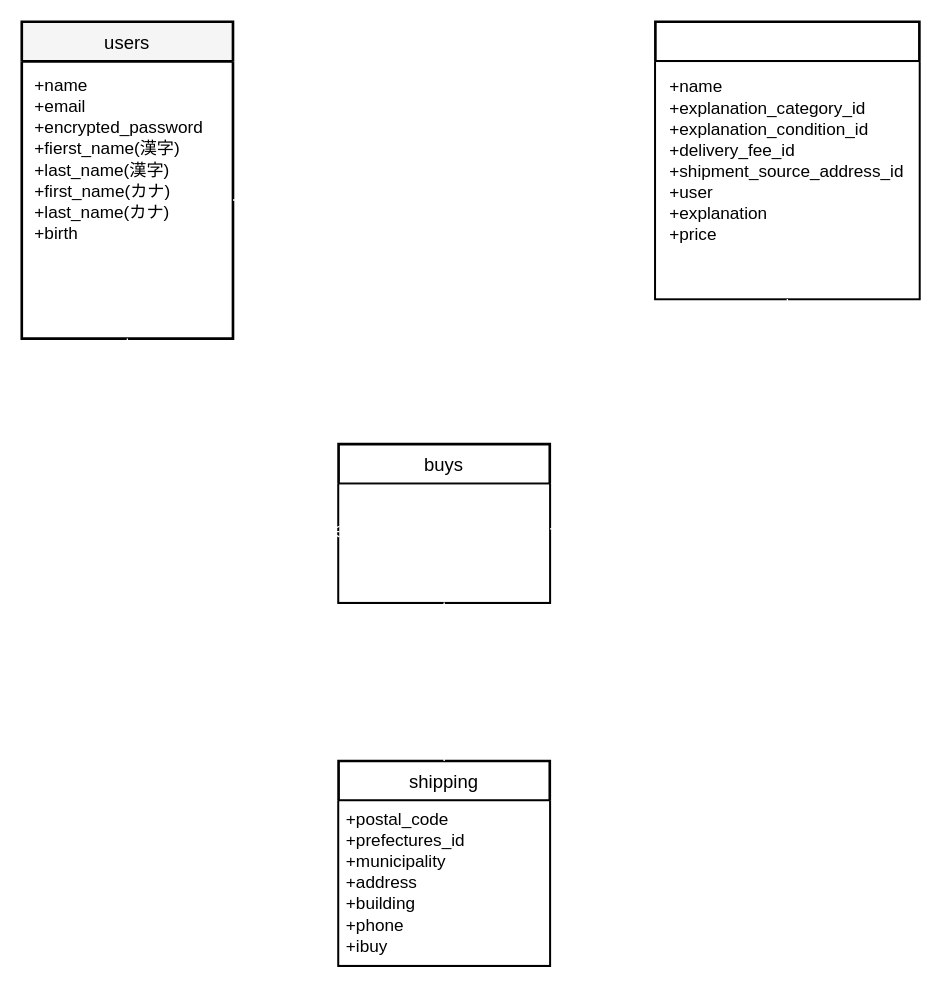
The diagram is 941 pixels wide and 987 high, and some of its shapes have lost their labels. The shapes that lost their labels are listed below. From the top down, each one's box as (x1, y1, x2, y2) in pixels, then its label:
(653, 20, 920, 300): items
(337, 482, 550, 603): +user +item
